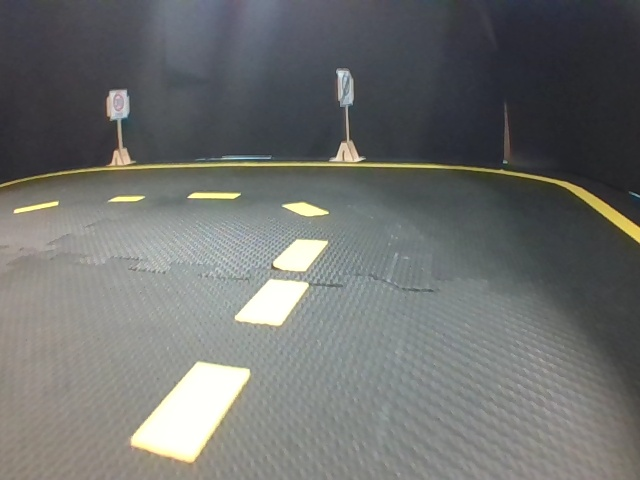30: (110, 90, 128, 122)
no30: (336, 70, 351, 104)
